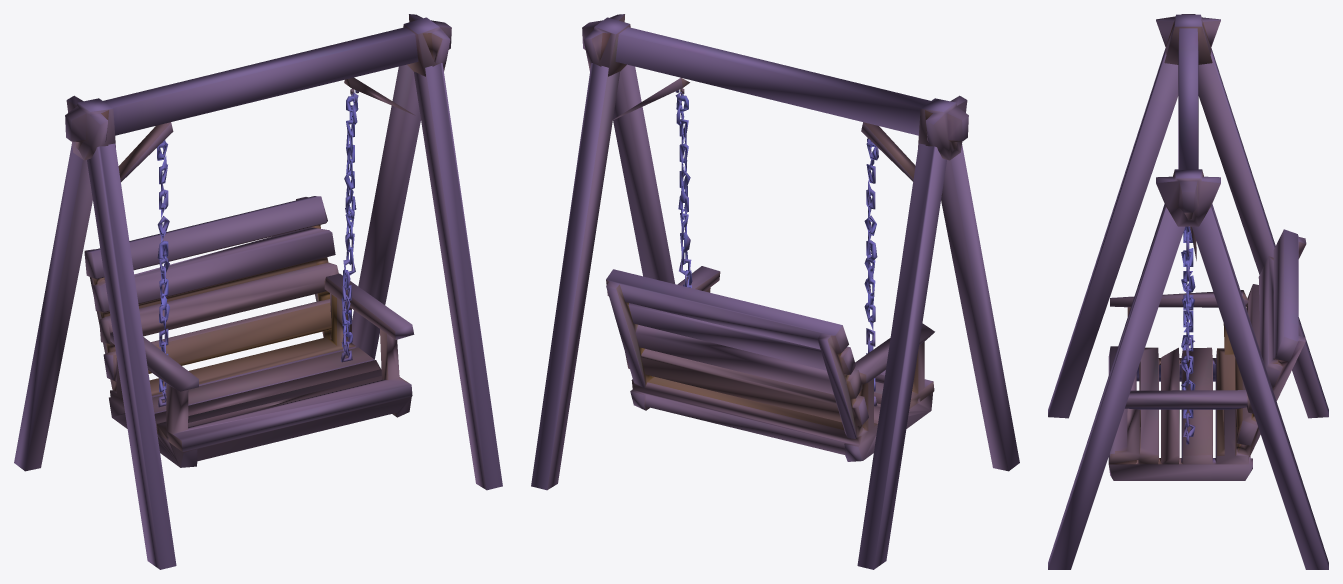
File: model.progressive.glb
3 views of the same model, side by side, from view 1: azimuth 30°, elevation 25°; view 2: azimuth 150°, elevation 25°; view 3: azimuth 270°, elevation 25° (orthographic). The views are drawn at different scales.
Visible parts, largest first — view 1: material; view 2: material; view 3: material.
Part boxes in pixels (<box>): material: <box>14,14,502,569</box>; material: <box>531,14,1019,569</box>; material: <box>1048,14,1328,569</box>.
Bounding box in the file's own units: 1.83 × 1.89 × 1.22.
1 material, 1 textured.
